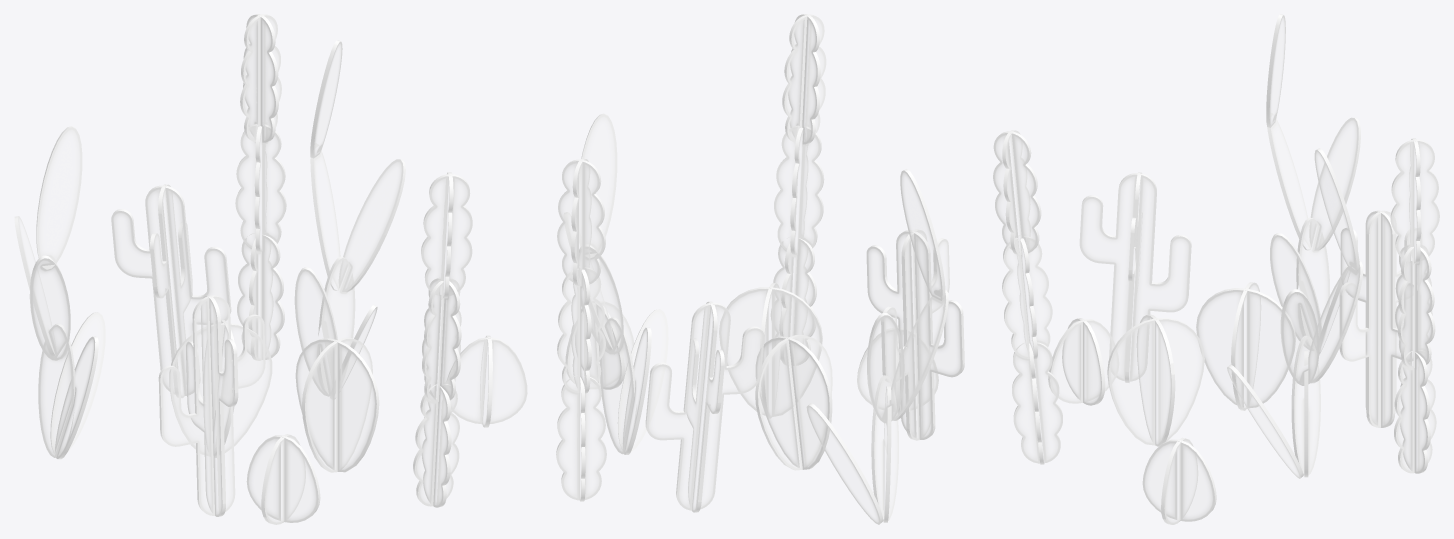
File: desertfigures_opt.glb
The picture shows the model from 3 angles, left to right: view 1: azimuth 30°, elevation 25°; view 2: azimuth 150°, elevation 25°; view 3: azimuth 270°, elevation 25°; orthographic projection. The views are drawn at different scales.
Visible parts, largest first — view 1: Ellipse004, Ellipse003, Shape016, Shape2, Shape015, Shape1, Shape017, Shape014, Shape3, Shape013; view 2: Shape016, Ellipse004, Shape2, Shape1, Ellipse003, Shape015, Shape3, Shape017, Shape014, Shape013; view 3: Shape2, Shape016, Ellipse003, Ellipse004, Shape015, Shape017, Shape1, Shape3, Shape014, Shape013.
Boxes of the visible parts, x1,y1,x2,y2 form: Ellipse004: (14, 126, 105, 459); Ellipse003: (294, 40, 405, 399); Shape016: (235, 14, 286, 360); Shape2: (413, 172, 472, 507); Shape015: (158, 295, 265, 516); Shape1: (111, 184, 231, 398); Shape017: (295, 337, 379, 472); Shape014: (446, 335, 527, 427); Shape3: (169, 319, 272, 457); Shape013: (246, 434, 320, 524); Shape016: (556, 158, 606, 501); Ellipse004: (806, 169, 948, 524); Shape2: (770, 14, 826, 365); Shape1: (645, 301, 764, 512); Ellipse003: (563, 113, 668, 454); Shape015: (866, 229, 964, 440); Shape3: (755, 335, 832, 470); Shape017: (719, 283, 822, 418); Shape014: (565, 301, 634, 389); Shape013: (857, 325, 938, 414); Shape2: (993, 130, 1062, 464); Shape016: (1390, 138, 1439, 473); Ellipse003: (1227, 148, 1363, 478); Ellipse004: (1266, 14, 1360, 354); Shape015: (1079, 172, 1191, 382); Shape017: (1107, 314, 1204, 446); Shape1: (1339, 210, 1422, 427); Shape3: (1196, 282, 1295, 410); Shape014: (1142, 437, 1216, 524); Shape013: (1048, 318, 1119, 405).
Size of the model in its own units: 24.26 by 18.54 by 22.31.
Materials: 1 (1 with a texture image).
